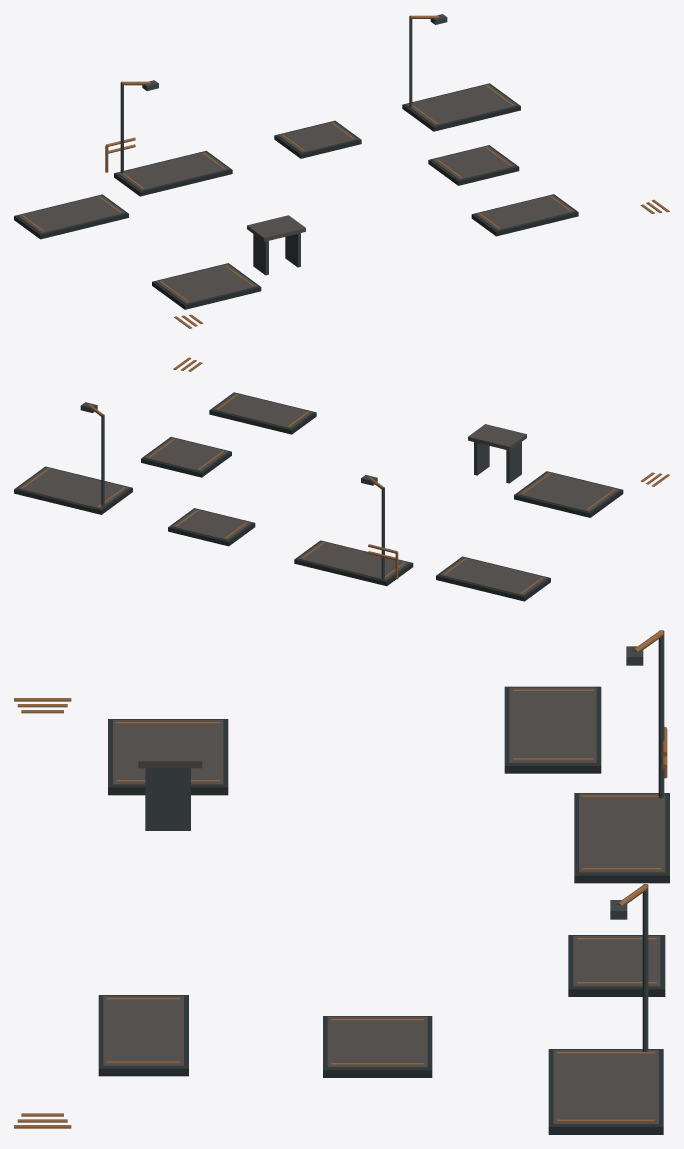
Rendered from R03-architecture.glb.
3 renders of one model, top to bottom at view 1: azimuth 30°, elevation 25°; view 2: azimuth 150°, elevation 25°; view 3: azimuth 270°, elevation 25°, orthographic. The views are drawn at different scales.
Visible parts, largest first — view 1: Armature vibration bed • chamfered flagstone, Spool winch seat • chamfered flagstone, Patch rack sill • chamfered flagstone, Sample frame sill • chamfered flagstone, Store elbow footing • chamfered flagstone, Continuity column seat • chamfered flagstone, Route wheel seat • chamfered flagstone, Recovery docket • wooden ledger shelf, Armature vibration bed • dark foundation, Patch rack sill • dark foundation, Sample frame sill • dark foundation, Spool winch seat • dark foundation (+5 smaller); view 2: Armature vibration bed • chamfered flagstone, Spool winch seat • chamfered flagstone, Sample frame sill • chamfered flagstone, Patch rack sill • chamfered flagstone, Store elbow footing • chamfered flagstone, Continuity column seat • chamfered flagstone, Route wheel seat • chamfered flagstone, Recovery docket • wooden ledger shelf, Armature vibration bed • dark foundation, Sample frame sill • dark foundation, Patch rack sill • dark foundation, Spool winch seat • dark foundation (+5 smaller); view 3: Armature vibration bed • chamfered flagstone, Patch rack sill • chamfered flagstone, Sample frame sill • chamfered flagstone, Store elbow footing • chamfered flagstone, Continuity column seat • chamfered flagstone, Route wheel seat • chamfered flagstone, Spool winch seat • chamfered flagstone, Recovery docket • wooden ledger shelf, Docket shelf • angle iron foot.001, Armature vibration bed • dark foundation, Sample frame sill • dark foundation, Patch rack sill • dark foundation (+6 smaller).
Boxes of the visible parts, x1,y1,x2,y2 form: Armature vibration bed • chamfered flagstone: (406,84,517,125); Spool winch seat • chamfered flagstone: (155,264,257,303); Patch rack sill • chamfered flagstone: (117,151,228,190); Sample frame sill • chamfered flagstone: (17,195,124,233); Store elbow footing • chamfered flagstone: (475,195,574,230); Continuity column seat • chamfered flagstone: (432,146,515,179); Route wheel seat • chamfered flagstone: (278,121,357,152); Recovery docket • wooden ledger shelf: (247,215,305,241); Armature vibration bed • dark foundation: (402,83,520,131); Patch rack sill • dark foundation: (114,150,232,196); Sample frame sill • dark foundation: (14,194,128,239); Spool winch seat • dark foundation: (152,263,261,309); Armature vibration bed • chamfered flagstone: (17,467,129,509); Spool winch seat • chamfered flagstone: (517,472,619,512); Sample frame sill • chamfered flagstone: (440,557,547,595); Patch rack sill • chamfered flagstone: (298,541,409,580); Store elbow footing • chamfered flagstone: (213,393,312,428); Continuity column seat • chamfered flagstone: (144,437,228,471); Route wheel seat • chamfered flagstone: (171,509,251,540); Recovery docket • wooden ledger shelf: (468,424,526,450); Armature vibration bed • dark foundation: (14,466,132,514); Sample frame sill • dark foundation: (436,556,550,601); Patch rack sill • dark foundation: (294,540,413,586); Spool winch seat • dark foundation: (514,471,623,517); Armature vibration bed • chamfered flagstone: (553,1050,658,1124); Patch rack sill • chamfered flagstone: (579,793,665,873); Sample frame sill • chamfered flagstone: (509,687,596,763); Store elbow footing • chamfered flagstone: (103,996,183,1066); Continuity column seat • chamfered flagstone: (327,1016,427,1068); Route wheel seat • chamfered flagstone: (573,936,660,987); Spool winch seat • chamfered flagstone: (113,720,223,785); Recovery docket • wooden ledger shelf: (138,724,202,768); Docket shelf • angle iron foot.001: (145,768,190,830); Armature vibration bed • dark foundation: (548,1049,663,1134); Sample frame sill • dark foundation: (504,686,601,773); Patch rack sill • dark foundation: (574,793,669,883).
Size of the model in its own units: 9.86 by 1.82 by 6.17.
